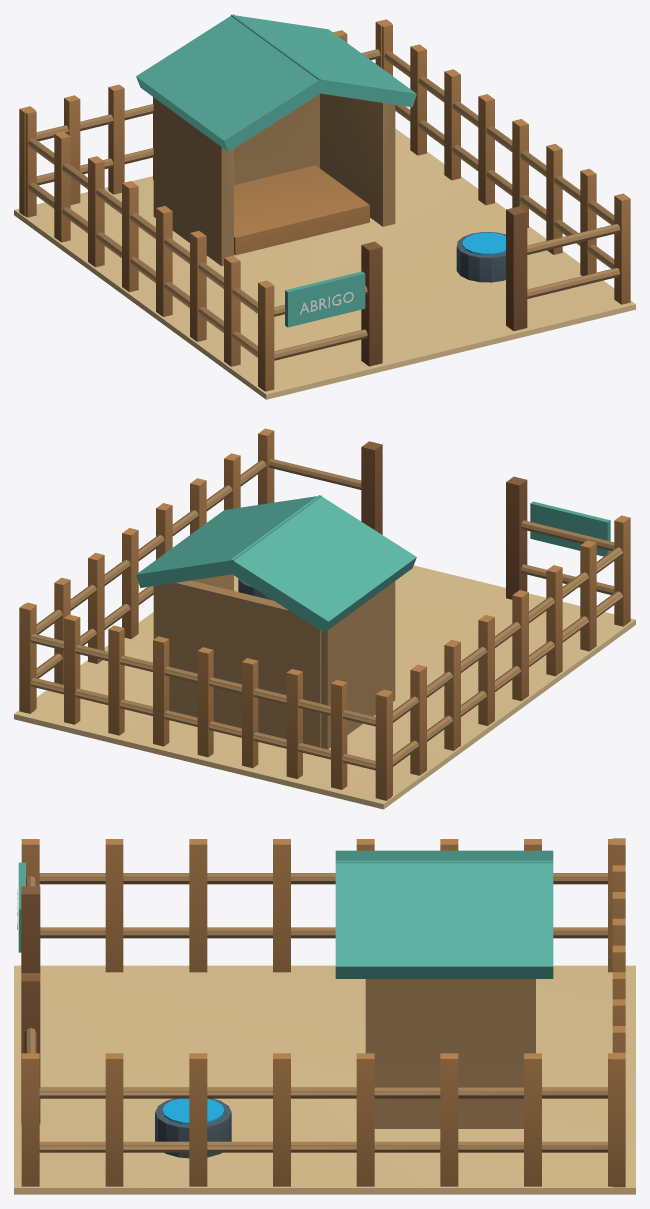
The model's file is wildlife-shelter.glb.
The picture shows the model from 3 angles, top to bottom: view 1: azimuth 30°, elevation 25°; view 2: azimuth 150°, elevation 25°; view 3: azimuth 270°, elevation 25°; orthographic projection. The views are drawn at different scales.
Parts seen in each view (by area): view 1: wildlife shelter pad, enclosure picket, enclosure rail, pitched shelter roof, access gate jamb, water bowl, drinking water; view 2: enclosure rail, enclosure picket, wildlife shelter pad, pitched shelter roof, access gate jamb; view 3: wildlife shelter pad, enclosure rail, enclosure picket, pitched shelter roof, access gate jamb, water bowl, drinking water.
Boxes of the visible parts, x1,y1,x2,y2 form: wildlife shelter pad: (14,128,635,399); enclosure picket: (19,19,630,391); enclosure rail: (28,49,620,360); pitched shelter roof: (136,14,416,327); access gate jamb: (361,206,527,366); water bowl: (456,232,505,282); drinking water: (462,232,505,254); enclosure rail: (30,459,622,770); enclosure picket: (19,428,630,800); wildlife shelter pad: (14,565,635,809); pitched shelter roof: (136,495,610,632); access gate jamb: (361,441,527,599); wildlife shelter pad: (14,965,635,1194); enclosure rail: (24,873,607,1152); enclosure picket: (21,838,625,1187); pitched shelter roof: (18,850,553,978); access gate jamb: (21,886,40,1123); water bowl: (155,1098,231,1158); drinking water: (162,1098,224,1124).
Size of the model in its own units: 2.2 by 1.02 by 2.6.
